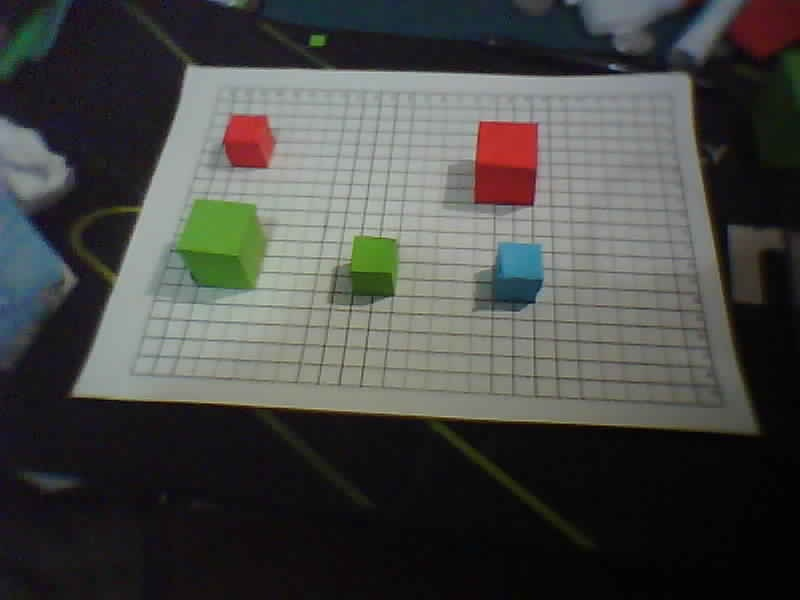blue(2x2x2): (488, 236, 550, 305)
green(2x2x2): (341, 229, 406, 298)
green(3x3x3): (180, 193, 271, 297)
red(2x2x2): (222, 116, 282, 174)
red(3x3x3): (463, 107, 551, 220)
